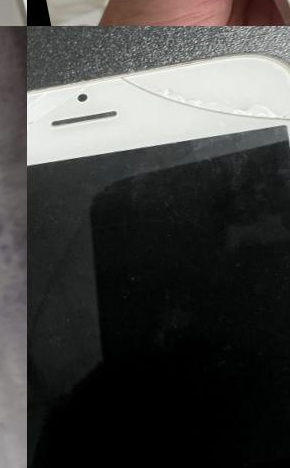physical_damage: (118, 41, 290, 155), (27, 81, 105, 171)
